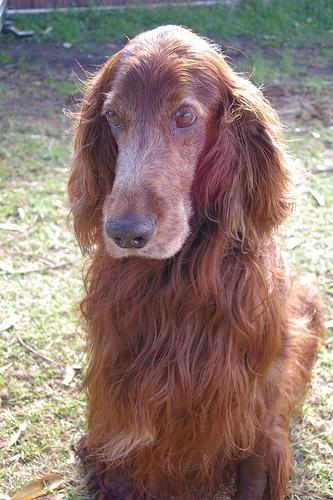Irish_setter: (63, 23, 324, 496)
